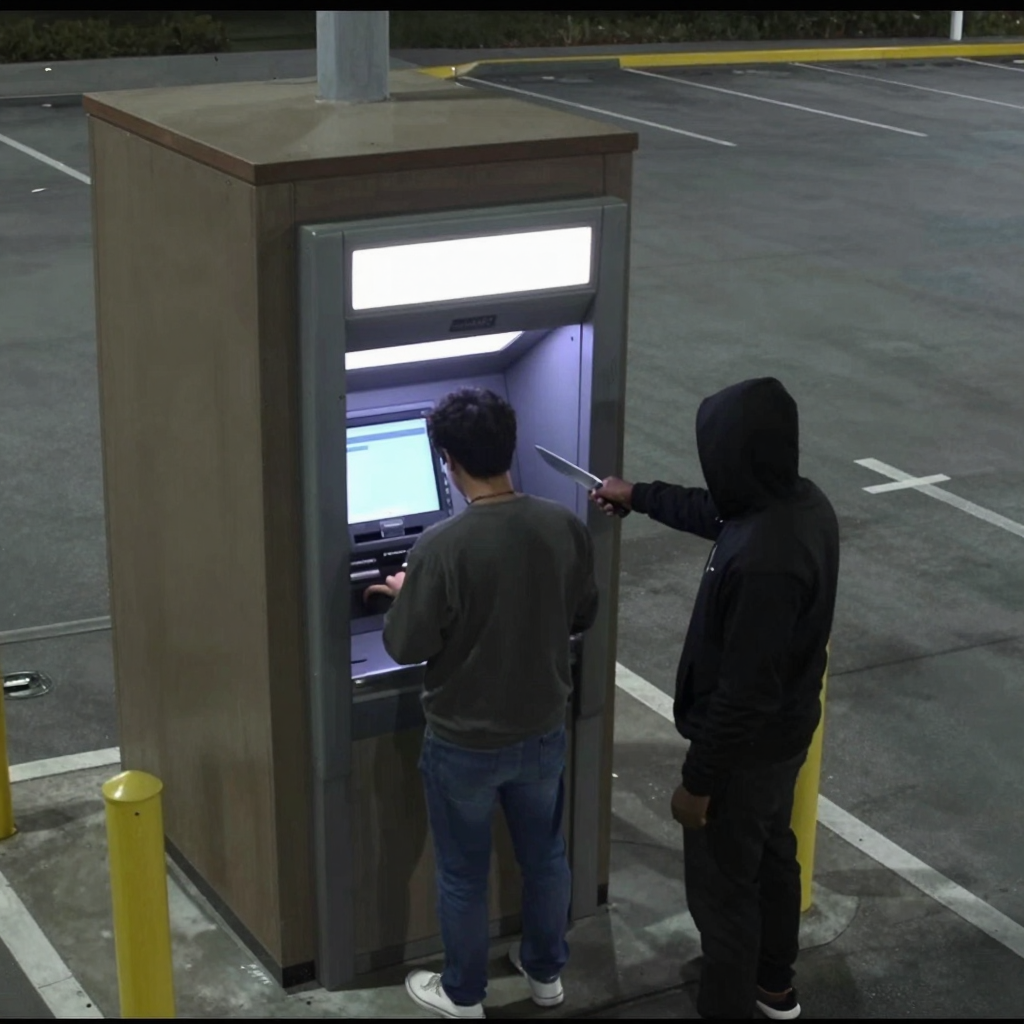Assault: (534, 445, 624, 513)
Robbery: (588, 376, 840, 1019), (362, 385, 599, 1019)
